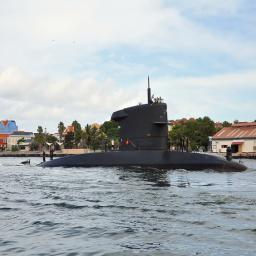submarine: (36, 78, 250, 167)
